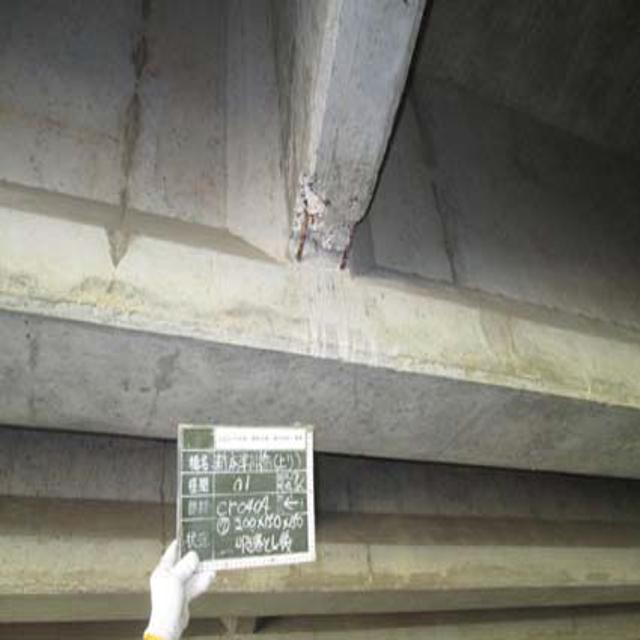spalling: (270, 176, 377, 287)
